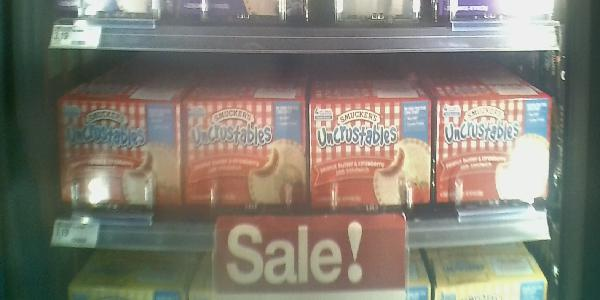icecream: (181, 94, 309, 214), (308, 95, 434, 214), (59, 97, 184, 216), (435, 90, 554, 210)
